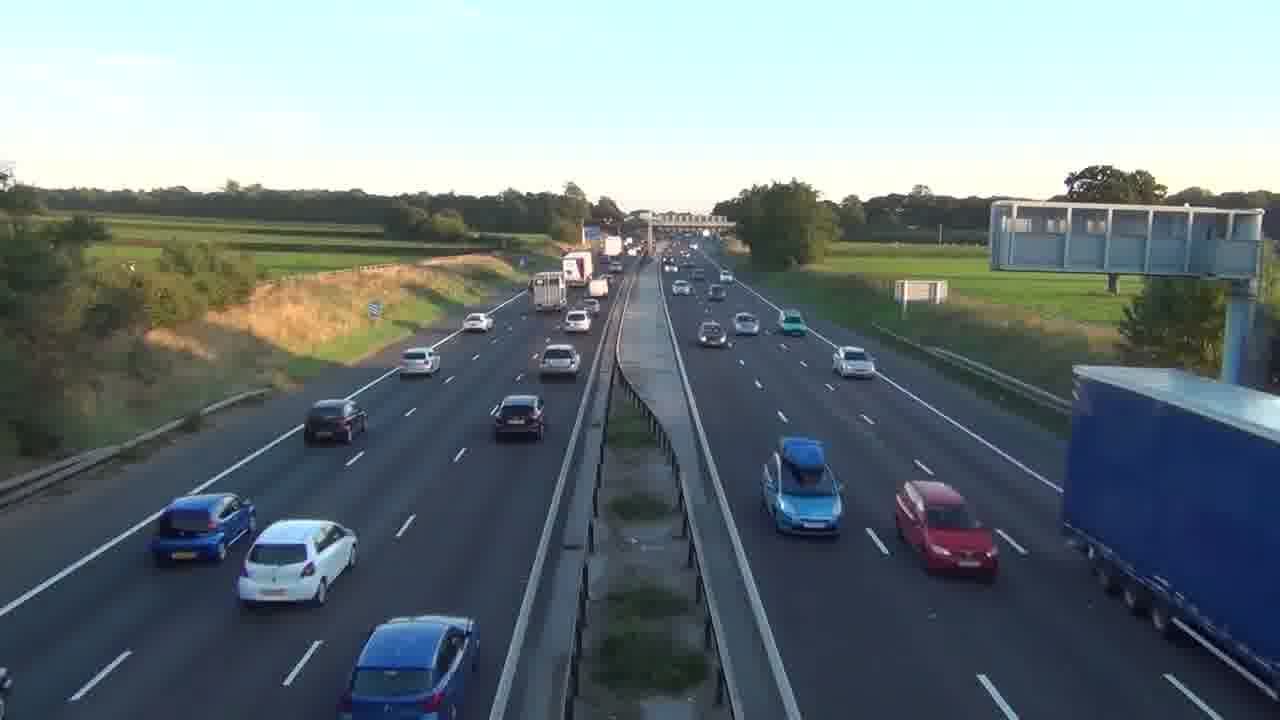car: (336, 612, 482, 719), (235, 517, 359, 611), (148, 492, 258, 567), (303, 398, 368, 446), (492, 393, 546, 441), (538, 343, 581, 379), (832, 345, 877, 379), (399, 346, 441, 377), (696, 319, 730, 348), (733, 312, 760, 336)
truck: (1058, 365, 1279, 695), (894, 479, 1000, 582), (760, 435, 847, 537)
